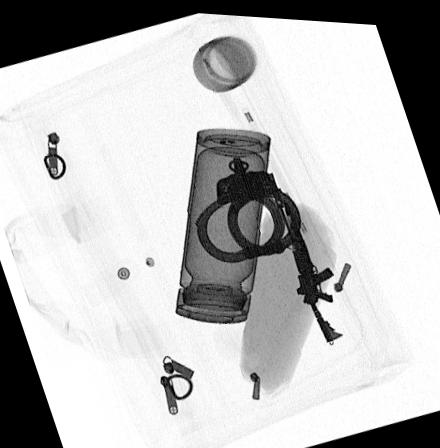Gun: (281, 186, 343, 337)
HandCuffs: (192, 151, 303, 258)
